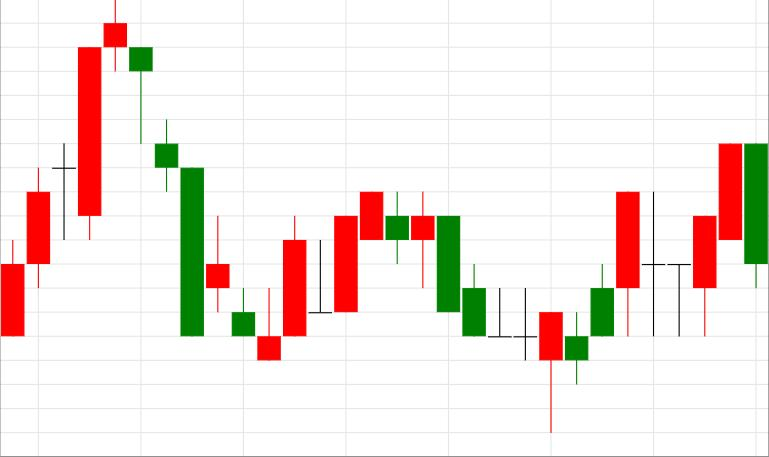hammer_rise: (412, 190, 562, 433)
